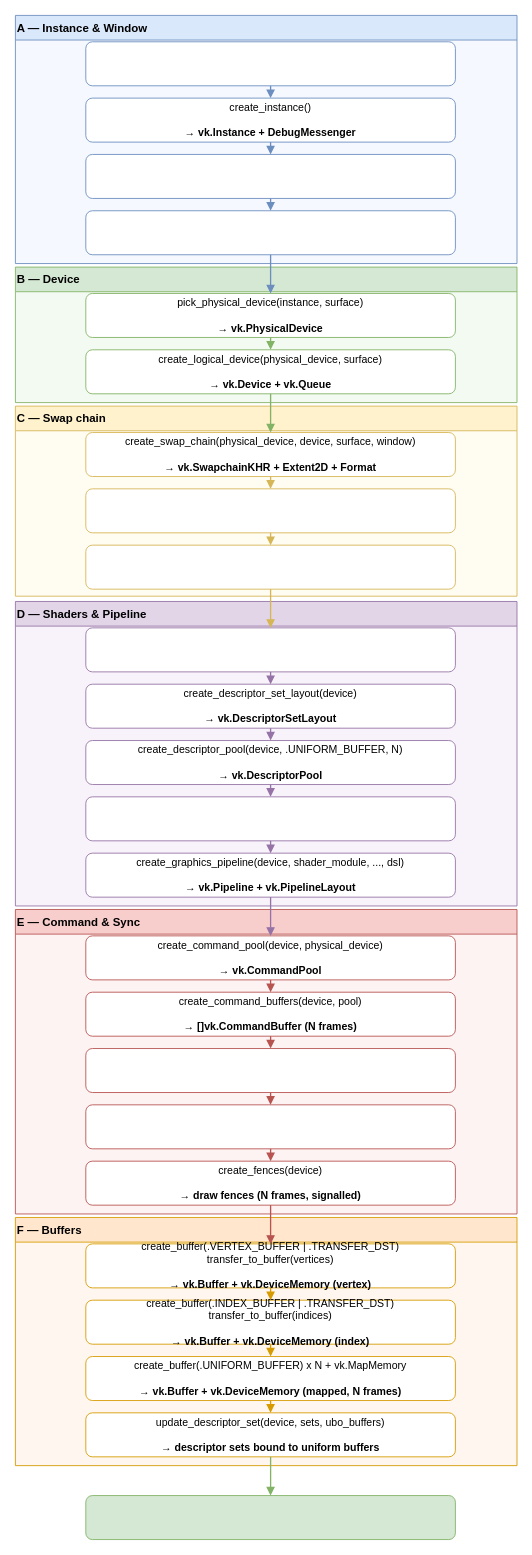
Image size: 532x1555. Some labels were removed from this diagram. The centre of each missing label's shape, as x and y in pixels:
create_descriptor_set(device, pool, layout, N) → []vk.DescriptorSet: (270,818)
create_image_views(device, images, format) → []vk.ImageView: (270,566)
create_semaphores(device) → acquire semaphores (N frames): (270,1070)
create_semaphores(device) → submit semaphores (per swap image): (270,1126)
create_shader_module(device, "shader.slang") → vk.ShaderModule: (270,649)
create_surface(instance, window) → vk.SurfaceKHR: (270,232)
create_window() → glfw.WindowHandle: (270,176)
get_swap_chain_images(device, swap_chain) → []vk.Image: (270,510)
glfw.Init() → GLFW initialised: (270,63)
Initialization complete — enter render loop: (270,1517)
